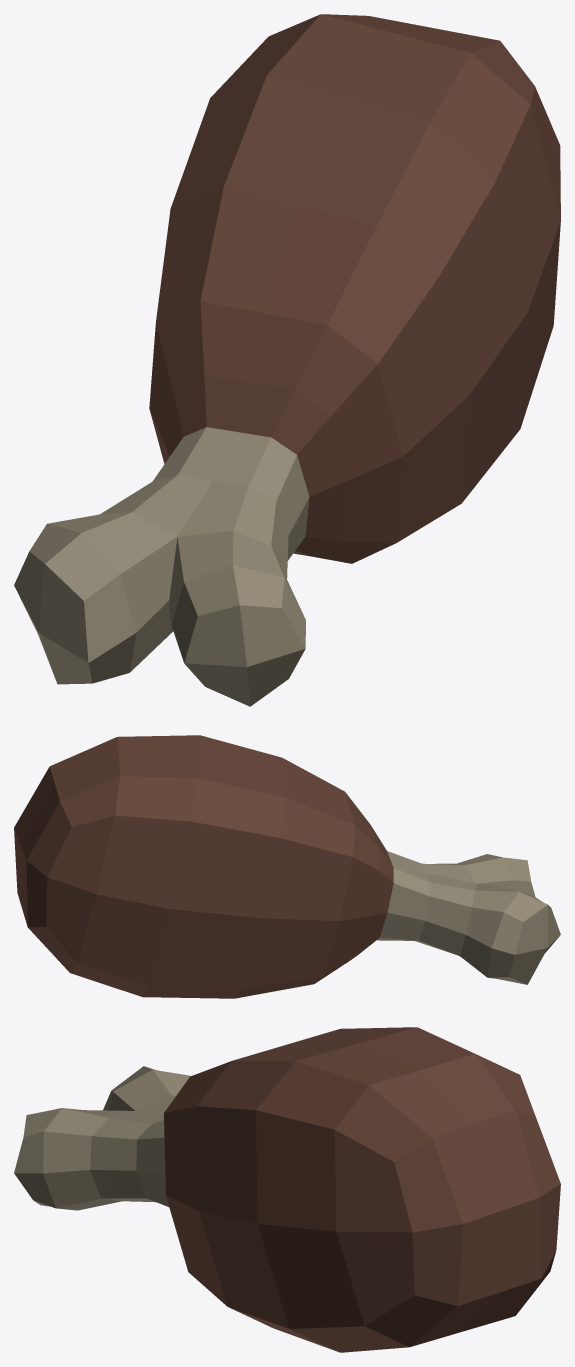
The model's file is Chicken Leg.glb.
The picture shows the model from 3 angles, top to bottom: view 1: azimuth 30°, elevation 25°; view 2: azimuth 150°, elevation 25°; view 3: azimuth 270°, elevation 25°; orthographic projection. The views are drawn at different scales.
Visible parts, largest first — view 1: ChickenLeg.001; view 2: ChickenLeg.001; view 3: ChickenLeg.001.
Boxes of the visible parts, x1=… form: ChickenLeg.001: x1=14, y1=14, x2=560, y2=706; ChickenLeg.001: x1=14, y1=735, x2=560, y2=998; ChickenLeg.001: x1=14, y1=1027, x2=560, y2=1352.
Bounding box in the file's own units: 0.8347 × 0.4537 × 0.7689.
